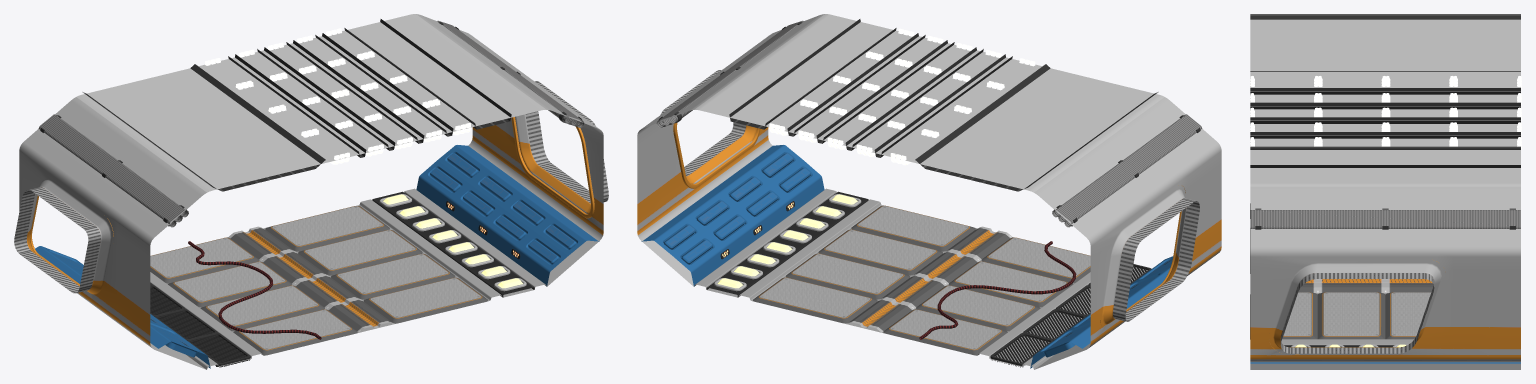
The model's file is MOD_4.fbx.
3 views of the same model, side by side, from view 1: azimuth 30°, elevation 25°; view 2: azimuth 150°, elevation 25°; view 3: azimuth 270°, elevation 25° (orthographic). The views are drawn at different scales.
Parts seen in each view (by area): view 1: MOD_4; view 2: MOD_4; view 3: MOD_4.
Boxes of the visible parts, x1,y1,x2,y2 form: MOD_4: (14, 14, 608, 369); MOD_4: (637, 14, 1221, 369); MOD_4: (1250, 14, 1521, 369).
Bounding box in the file's own units: 8.72 × 3.09 × 4.02.
3 materials, 1 textured.
